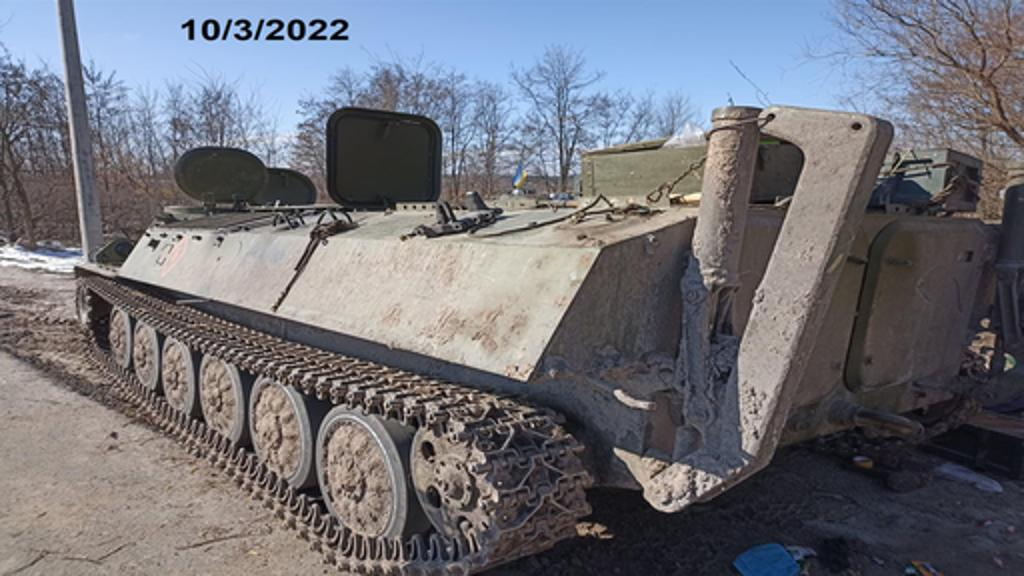APC-IFV: (58, 92, 1020, 574)
